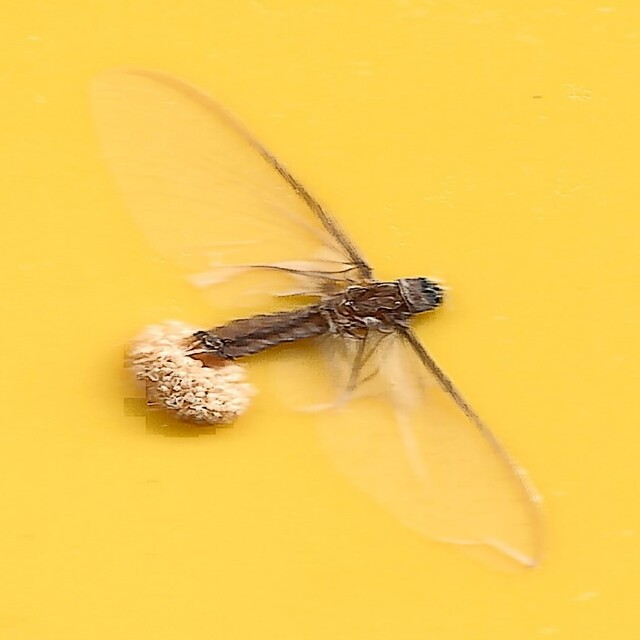Ephemeroptera: (100, 69, 540, 571)
